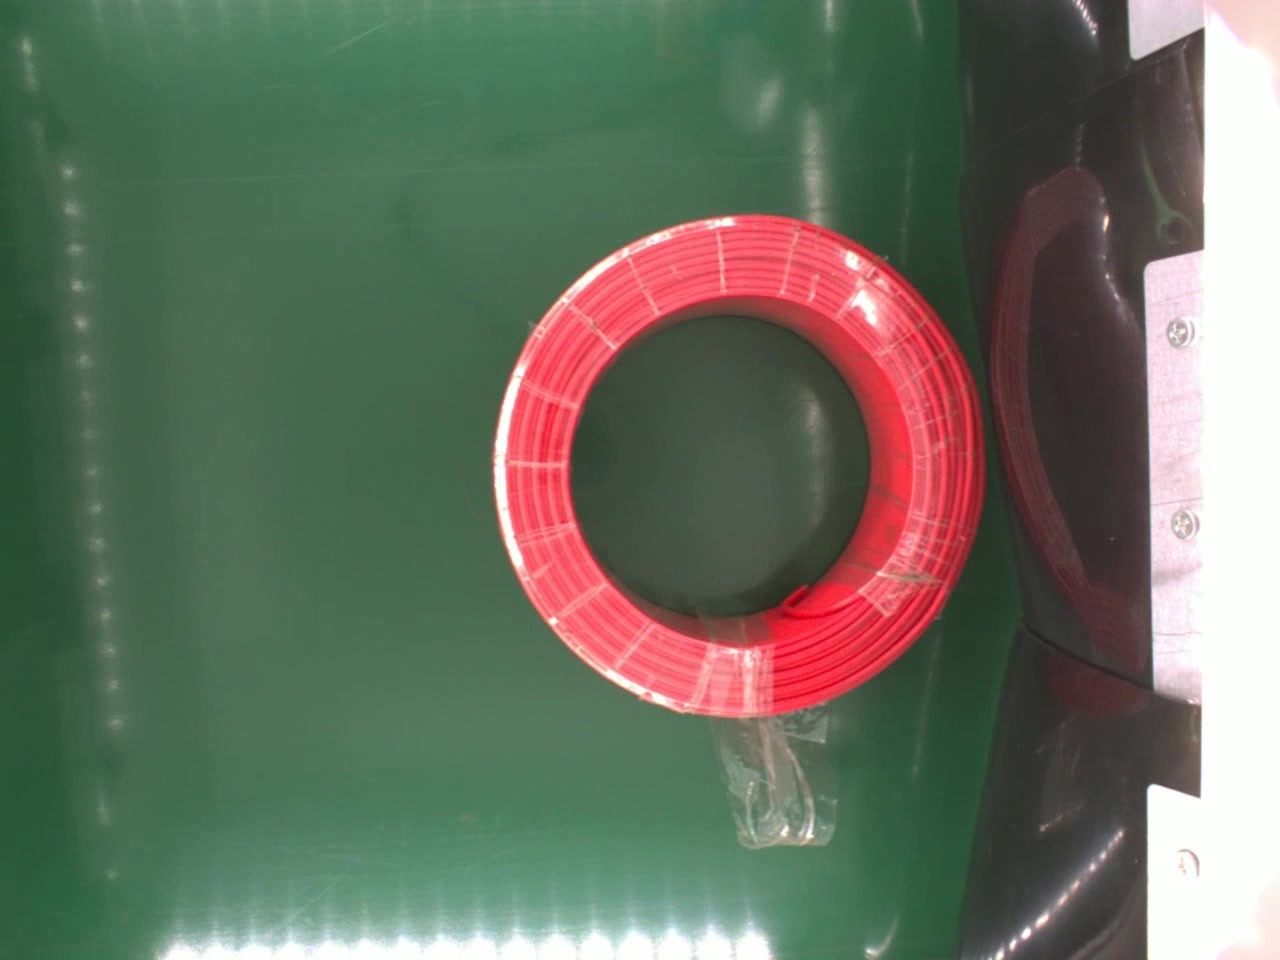red: (483, 204, 996, 727)
